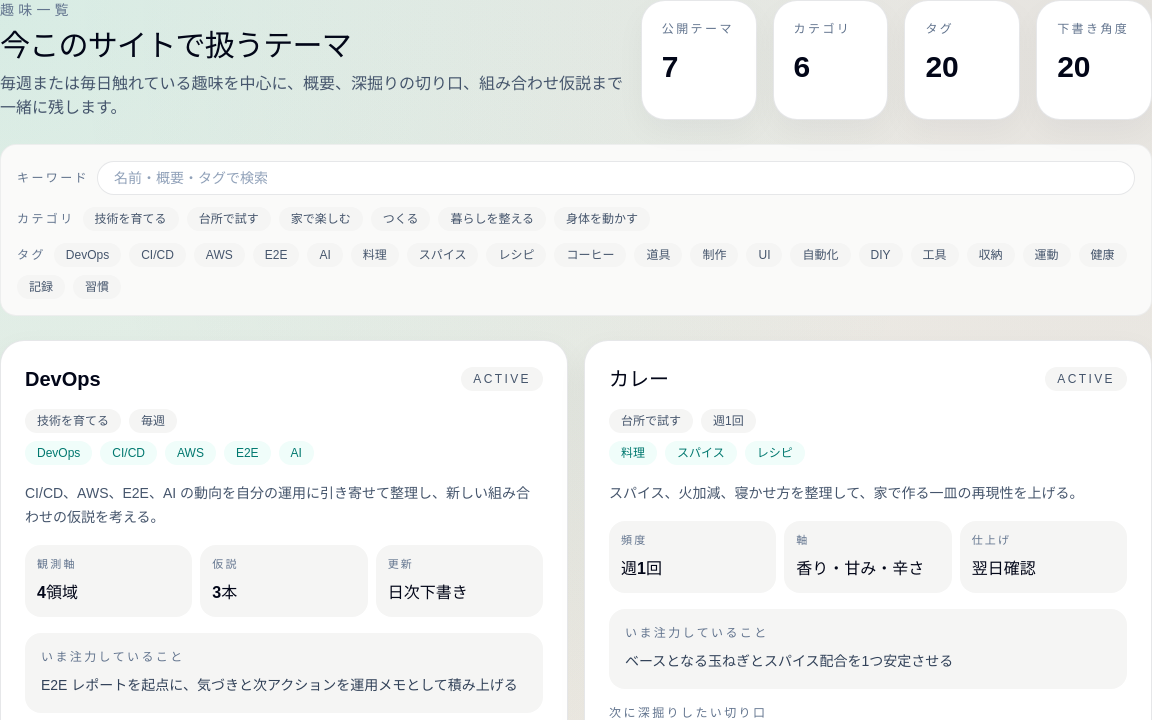
it: HobbiesPage › 絞り込み後に「絞り込みを解除」ボタンが表示される
Click the button "身体を動かす" at (602, 219), box [554, 207, 650, 231]
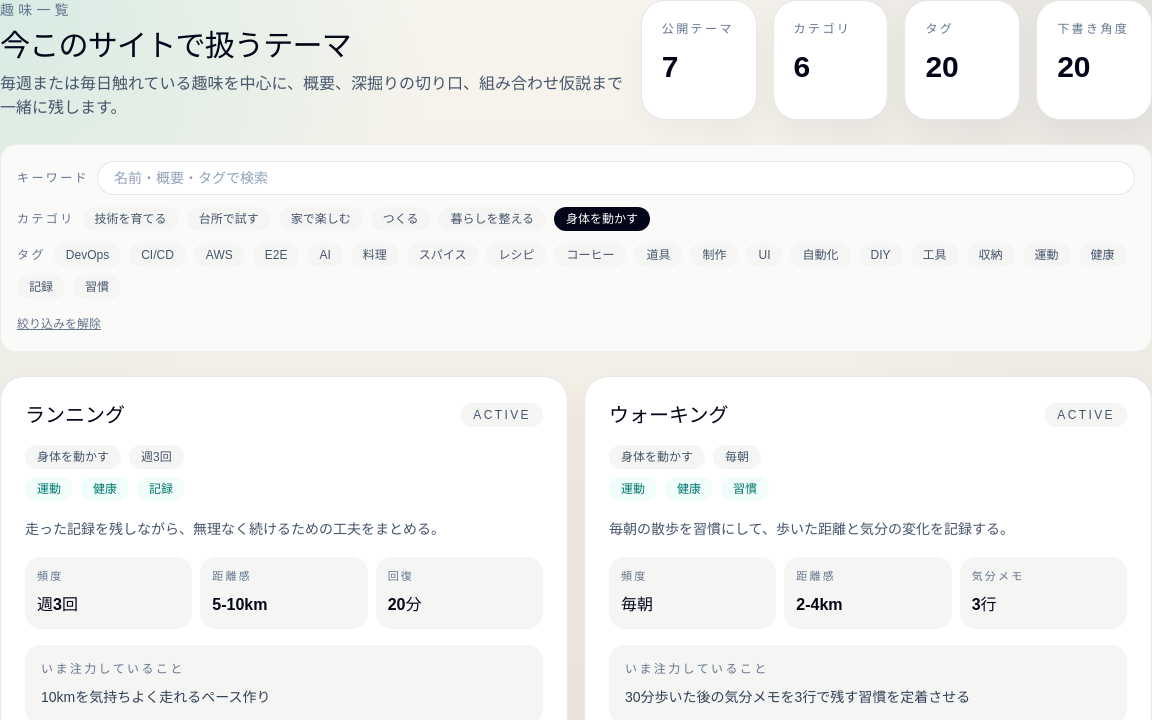
Expected: the button "絞り込みを解除" is shown, [17, 316, 101, 332]
